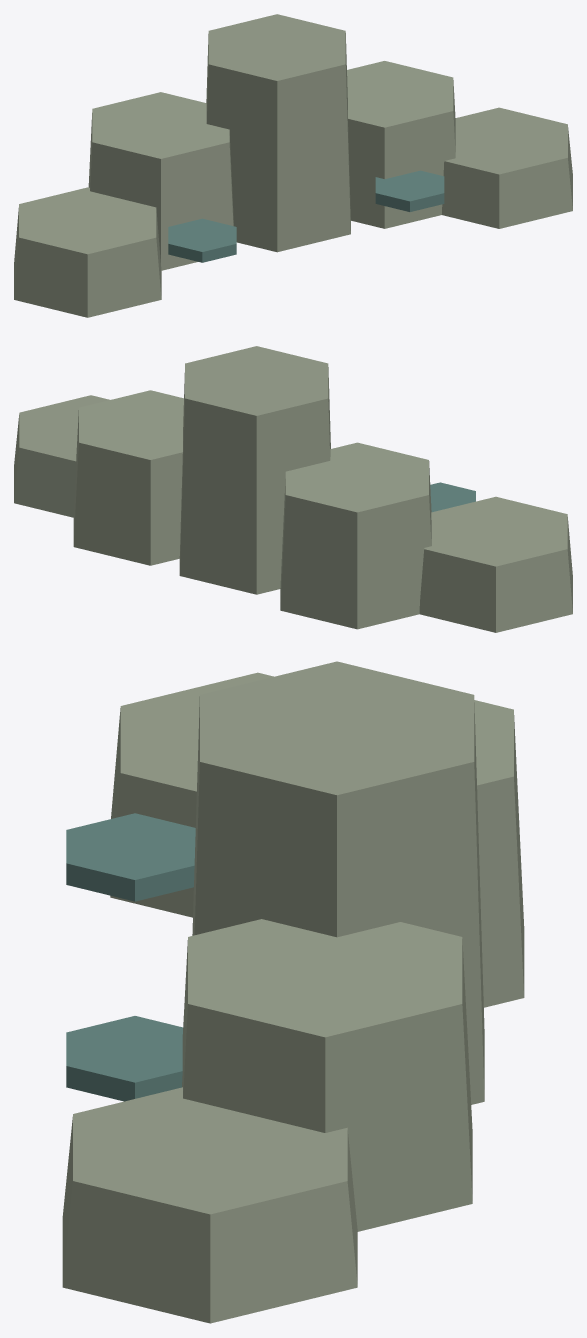
File: map-exclusive-v3__ruins_13.glb
3 views of the same model, one above another, from view 1: azimuth 30°, elevation 25°; view 2: azimuth 150°, elevation 25°; view 3: azimuth 270°, elevation 25° (orthographic). The views are drawn at different scales.
Visible parts, largest first — view 1: ruins_13; view 2: ruins_13; view 3: ruins_13.
Boxes of the visible parts, x1,y1,x2,y2 form: ruins_13: (14, 14, 572, 317); ruins_13: (14, 346, 572, 632); ruins_13: (62, 661, 524, 1323).
Bounding box in the file's own units: 3.19 × 0.9401 × 1.16.
